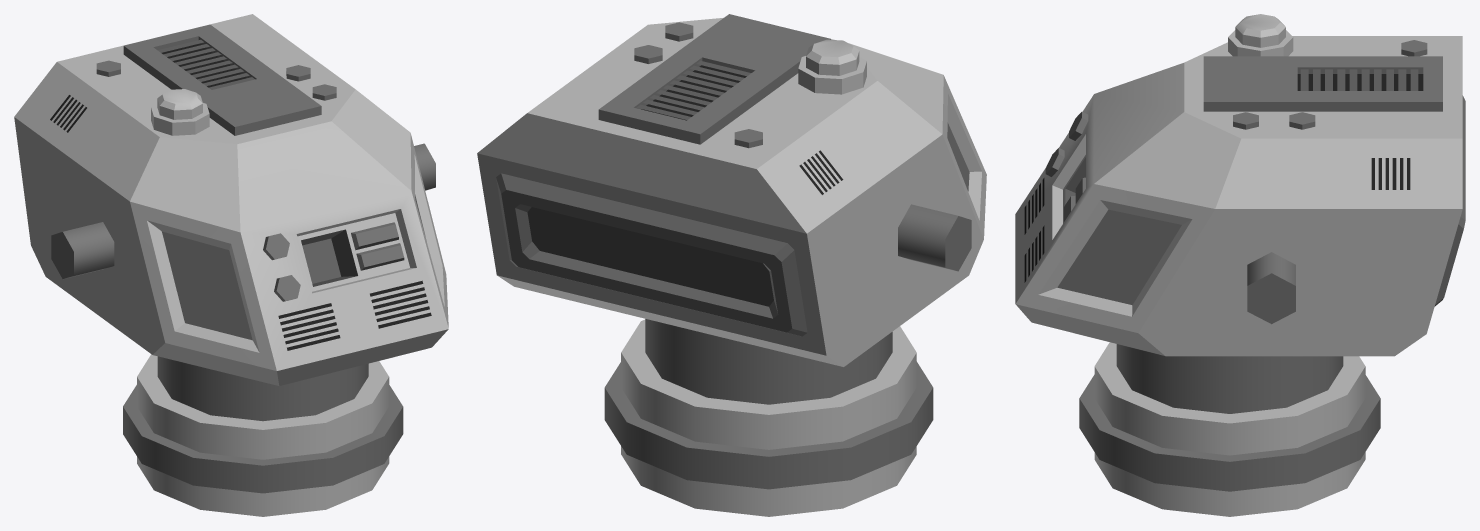
Rendered from turret_010.fbx.
3 views of the same model, side by side, from view 1: azimuth 30°, elevation 25°; view 2: azimuth 150°, elevation 25°; view 3: azimuth 270°, elevation 25° (orthographic). The views are drawn at different scales.
Parts seen in each view (by area): view 1: turret_010; view 2: turret_010; view 3: turret_010.
Part boxes in pixels (x1=…): turret_010: x1=14, y1=14, x2=448, y2=516; turret_010: x1=477, y1=14, x2=986, y2=516; turret_010: x1=1015, y1=14, x2=1465, y2=516.
Bounding box in the file's own units: 373 × 374 × 368.
